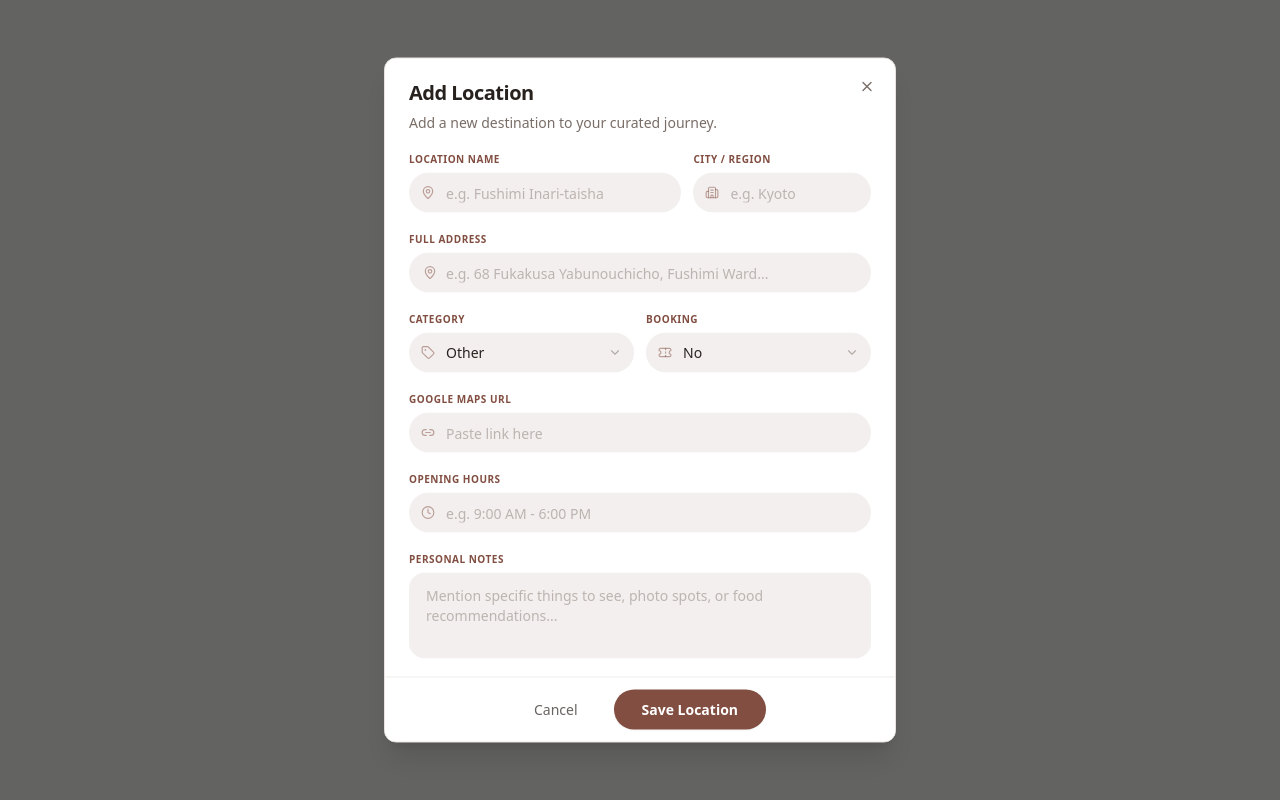
it: AddLocationForm › shows duplicate warning when google_place_id matches existing location
Type "https://maps.app.goo.gl/abc123" into the field labelled "Google Maps URL".
click(640, 432); type("https://maps.app.goo.gl/abc123")  # box x1=409 y1=412 x2=871 y2=452
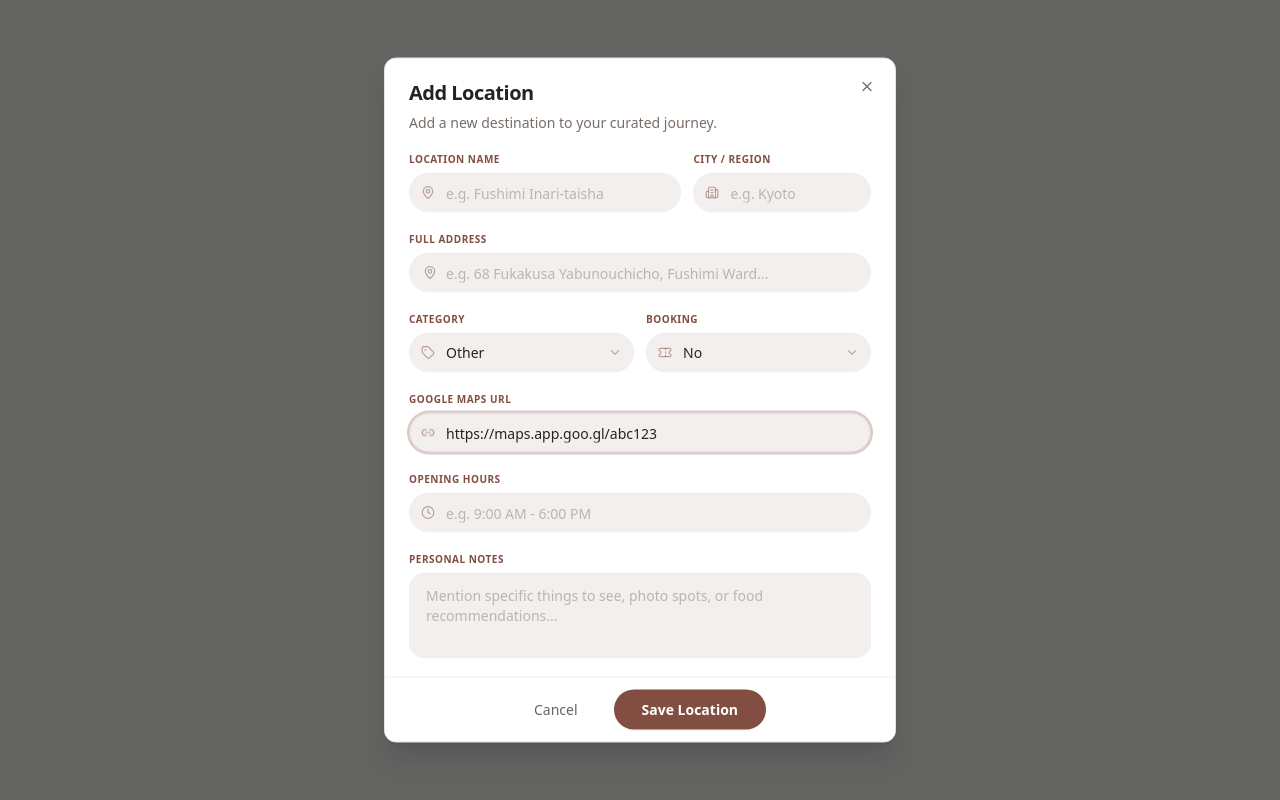
Press Tab
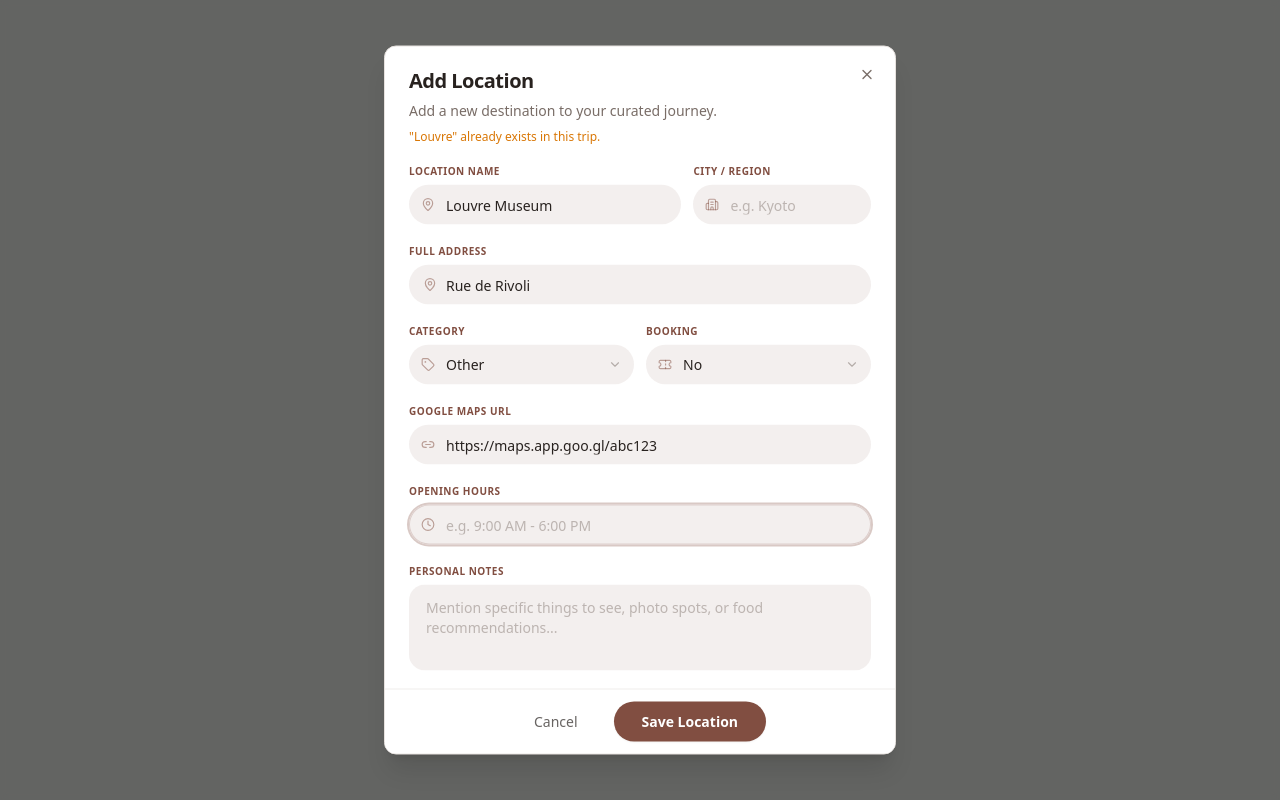
Result: the text "\"Louvre\" already exists in this trip." is shown at x1=409 y1=128 x2=600 y2=144
